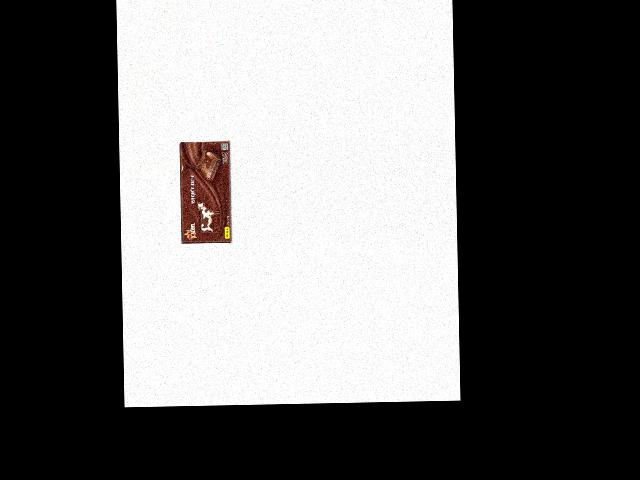chocolate: (178, 142, 232, 246)
